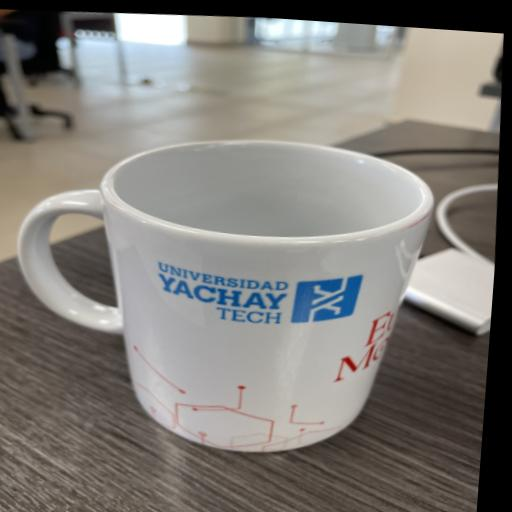taza: (0, 110, 450, 474)
